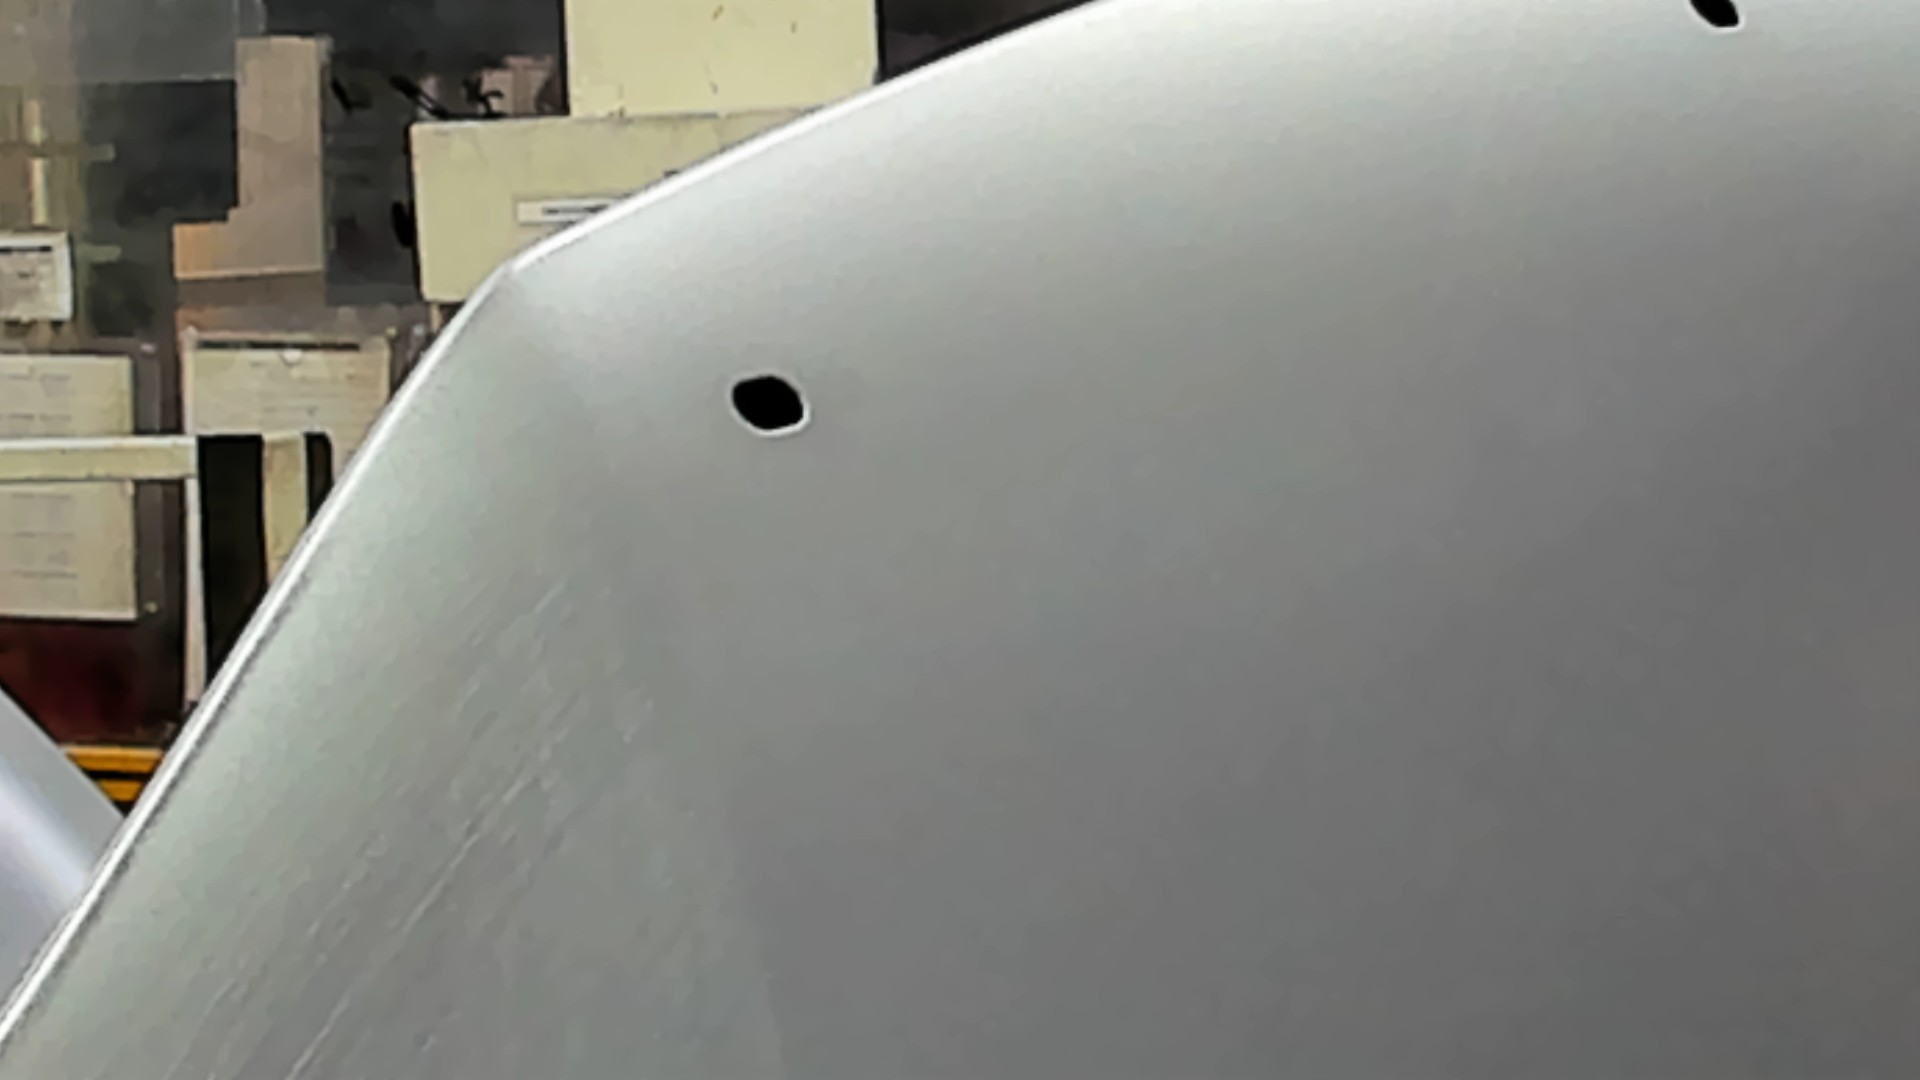amorfo: (723, 367, 818, 440), (1687, 1, 1747, 38)
